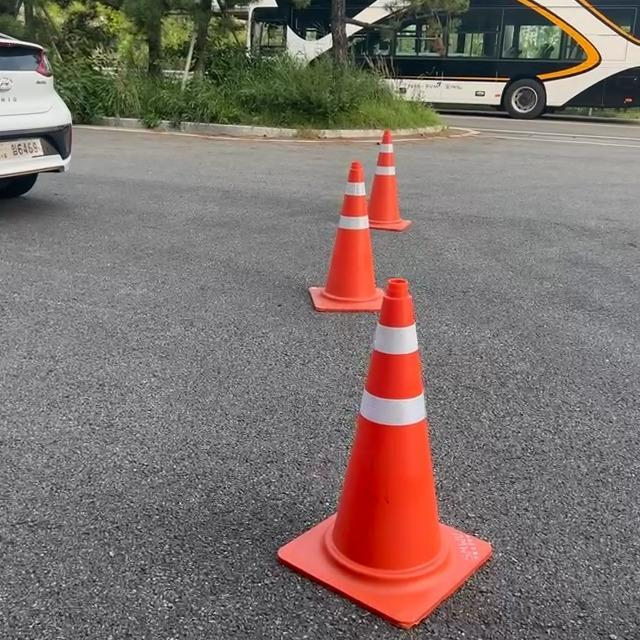fallen_object: (316, 280, 502, 593), (290, 140, 404, 319), (359, 86, 454, 258)
